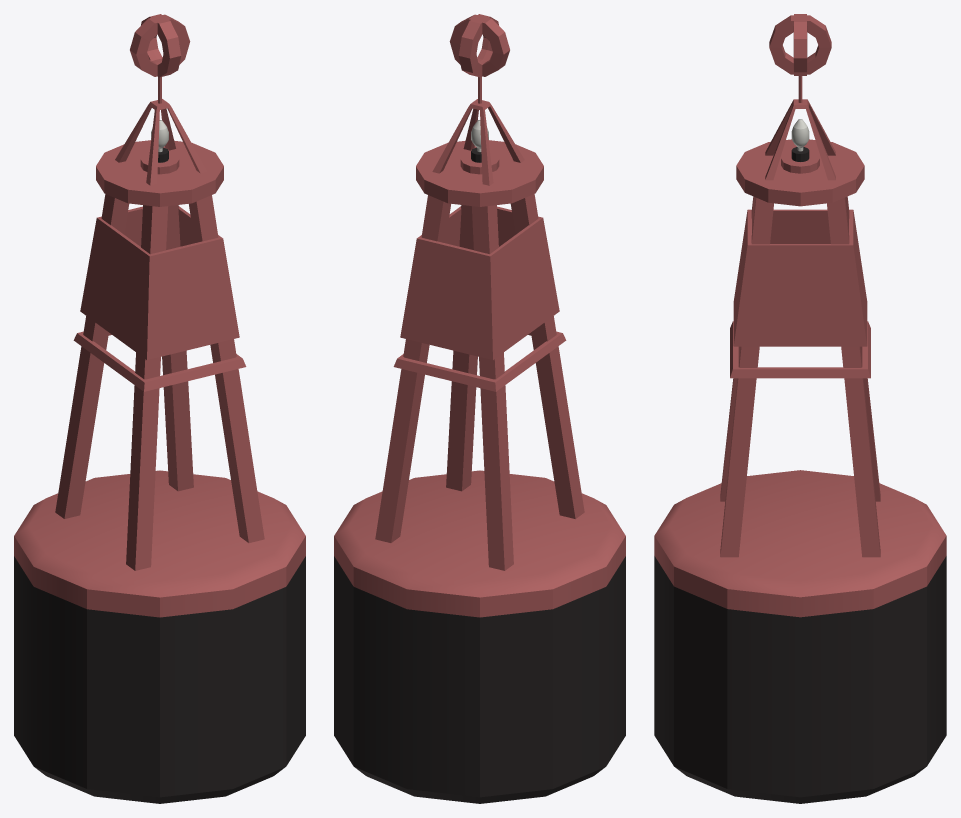
The model's file is Buoys_Circulo.fbx.
The picture shows the model from 3 angles, left to right: view 1: azimuth 30°, elevation 25°; view 2: azimuth 150°, elevation 25°; view 3: azimuth 270°, elevation 25°; orthographic projection.
Parts seen in each view (by area): view 1: pCylinder9, pCube25, pCube26, pCylinder10, pCube27, pCube29, pTorus1, pTorus2; view 2: pCylinder9, pCube25, pCube26, pCylinder10, pCube27, pCube29, pTorus1, pTorus2; view 3: pCylinder9, pCube26, pCube25, pCylinder10, pCube27, pTorus2, pCube29, pTorus1, pCylinder11.
Boxes of the visible parts, x1,y1,x2,y2 form: pCylinder9: [14, 470, 305, 803]; pCube25: [55, 194, 264, 570]; pCube26: [80, 206, 239, 359]; pCylinder10: [96, 140, 223, 206]; pCube27: [73, 331, 246, 391]; pCube29: [115, 99, 207, 185]; pTorus1: [130, 14, 190, 76]; pTorus2: [141, 14, 181, 77]; pCylinder9: [334, 470, 625, 803]; pCube25: [375, 194, 584, 570]; pCube26: [400, 206, 559, 359]; pCylinder10: [416, 140, 543, 206]; pCube27: [393, 331, 566, 391]; pCube29: [432, 99, 524, 185]; pTorus1: [449, 14, 509, 76]; pTorus2: [458, 14, 498, 77]; pCylinder9: [654, 470, 946, 803]; pCube26: [733, 209, 867, 346]; pCube25: [720, 196, 880, 557]; pCylinder10: [736, 139, 864, 206]; pCube27: [730, 321, 870, 378]; pTorus2: [769, 15, 831, 74]; pCube29: [765, 99, 835, 180]; pTorus1: [793, 14, 807, 75]; pCylinder11: [781, 151, 819, 173].
Bounding box in the file's own units: 1.59 × 4.39 × 1.59.
